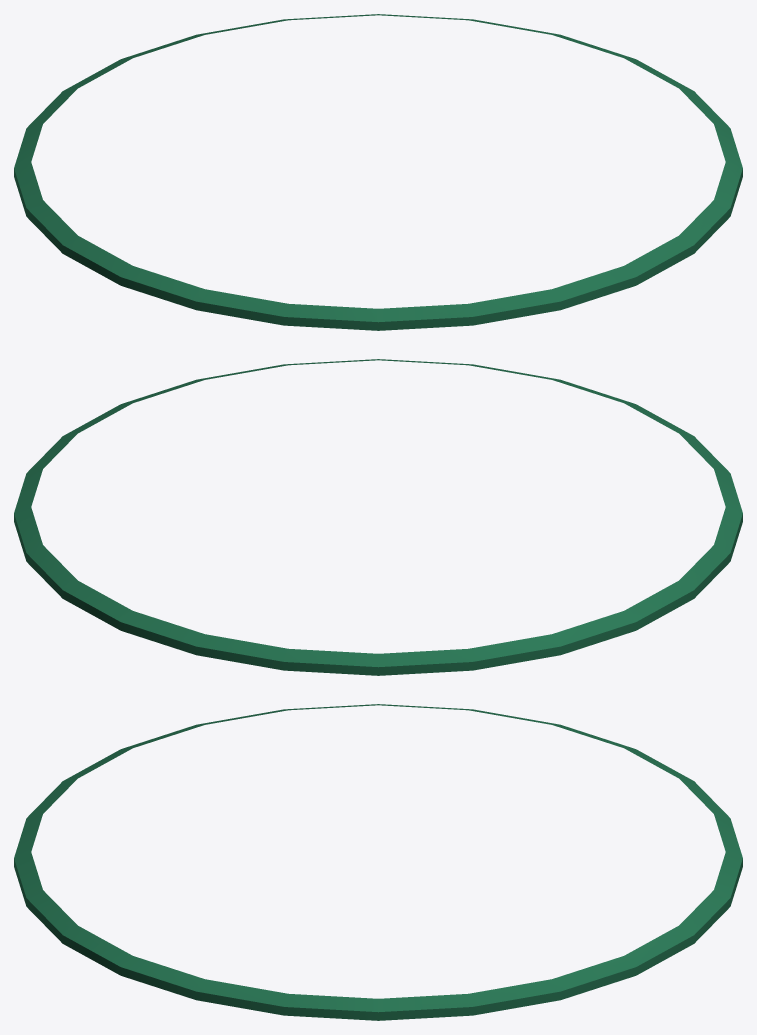
The model's file is dome.trim_bottom.green.glb.
3 renders of one model, top to bottom at view 1: azimuth 30°, elevation 25°; view 2: azimuth 150°, elevation 25°; view 3: azimuth 270°, elevation 25°, orthographic.
Visible parts, largest first — view 1: dome_trim_bottom_green; view 2: dome_trim_bottom_green; view 3: dome_trim_bottom_green.
Part boxes in pixels (x1,y1,x2,y2): dome_trim_bottom_green: (14, 14, 742, 330); dome_trim_bottom_green: (14, 359, 742, 675); dome_trim_bottom_green: (14, 704, 742, 1020).
Size of what is drawn, in the model's own units: 7.6 by 0.17 by 7.6.
